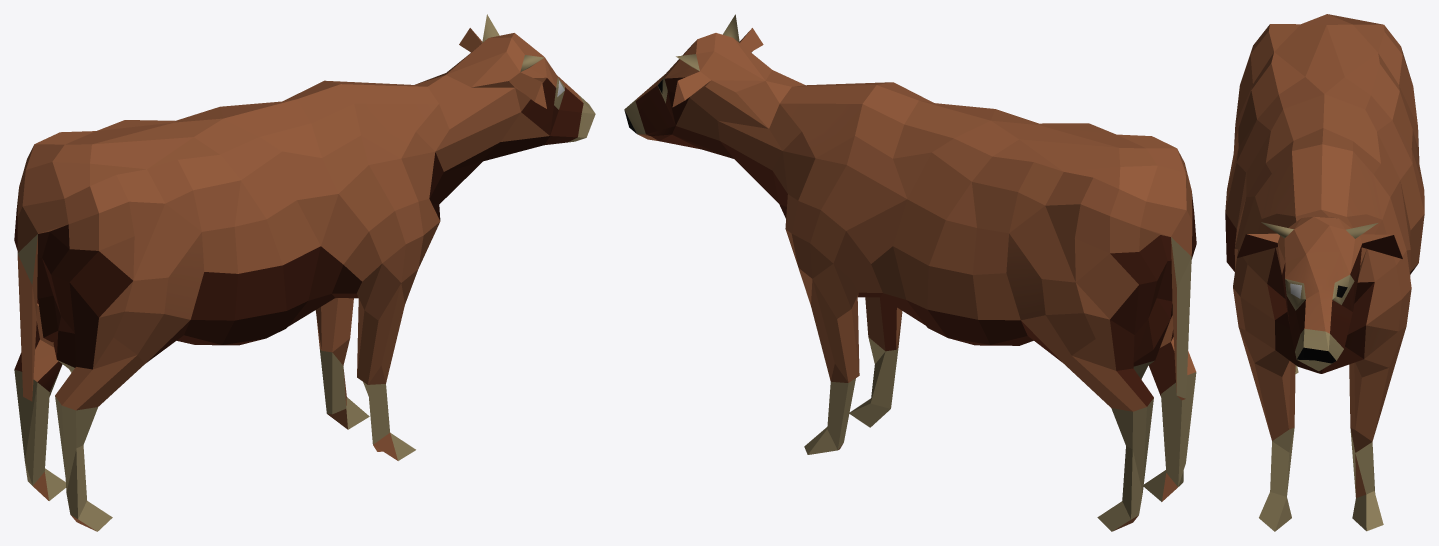
File: cow.obj
The picture shows the model from 3 angles, left to right: view 1: azimuth 30°, elevation 25°; view 2: azimuth 150°, elevation 25°; view 3: azimuth 270°, elevation 25°; orthographic projection.
Visible parts, largest first — view 1: grp1_Untitled.001; view 2: grp1_Untitled.001; view 3: grp1_Untitled.001.
Part boxes in pixels (<box>): grp1_Untitled.001: <box>14,14,595,531</box>; grp1_Untitled.001: <box>624,14,1196,531</box>; grp1_Untitled.001: <box>1225,14,1424,531</box>.
Size of the model in its own units: 14.56 by 9.03 by 4.38.
